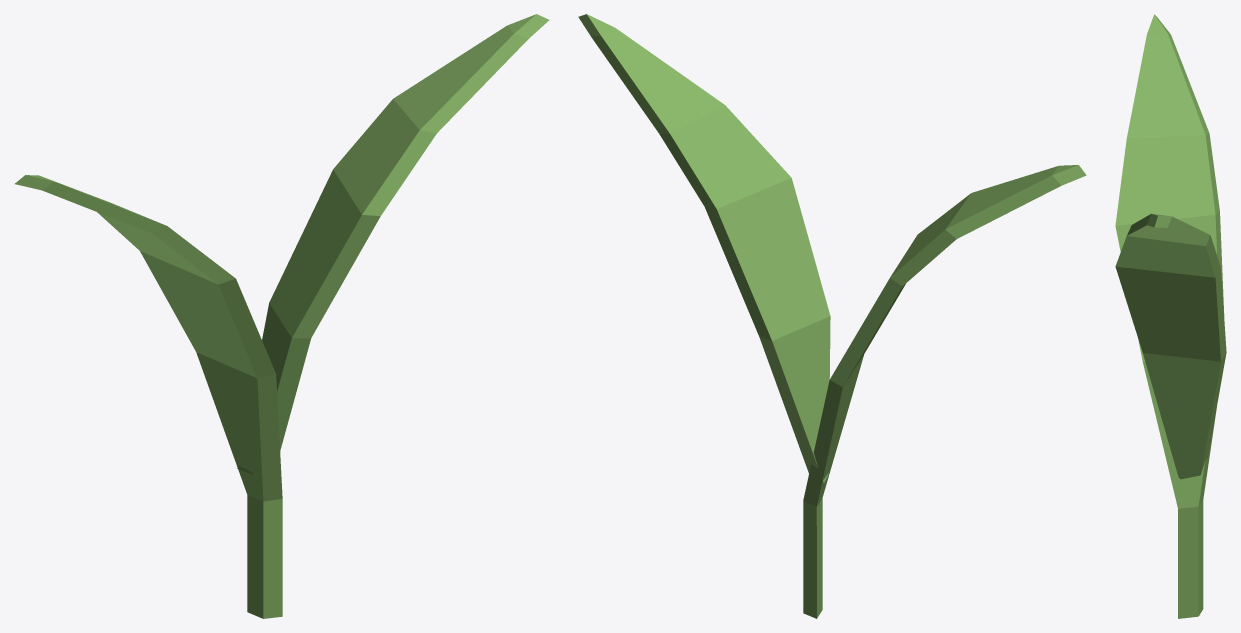
File: Carrot_1.glb
3 views of the same model, side by side, from view 1: azimuth 30°, elevation 25°; view 2: azimuth 150°, elevation 25°; view 3: azimuth 270°, elevation 25° (orthographic). The views are drawn at different scales.
Parts seen in each view (by area): view 1: Carrot_1; view 2: Carrot_1; view 3: Carrot_1.
Boxes of the visible parts, bbox=[...] form: Carrot_1: bbox=[15, 14, 549, 618]; Carrot_1: bbox=[578, 14, 1086, 618]; Carrot_1: bbox=[1115, 14, 1226, 618].
Size of the model in its own units: 0.3551 by 0.3502 by 0.0686.
